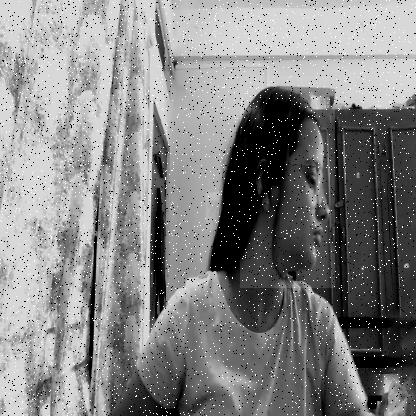Distracted: (240, 76, 335, 288)
